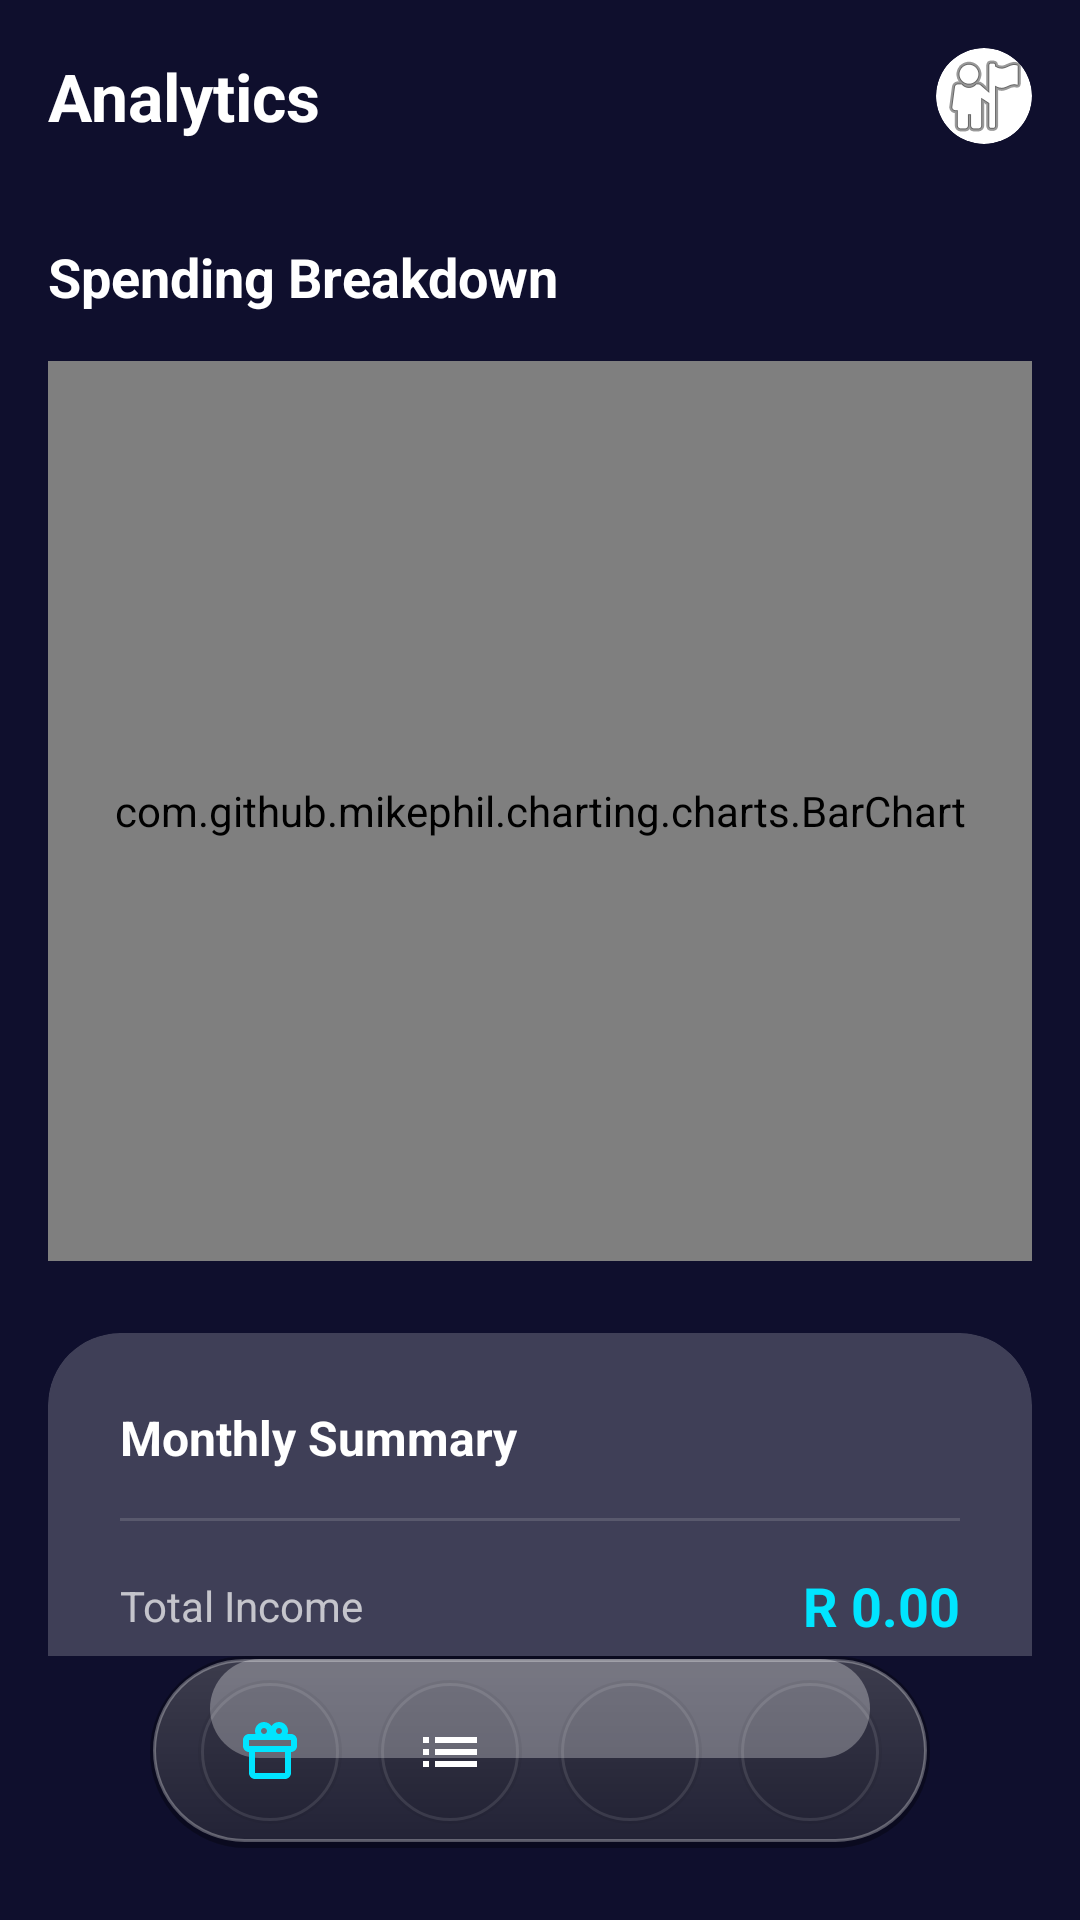

Point at icon controls on the screen. Image size 1080px x 1920px, points as (x=x, y=y).
gift: (x=270, y=1752)
menu: (x=450, y=1752)
